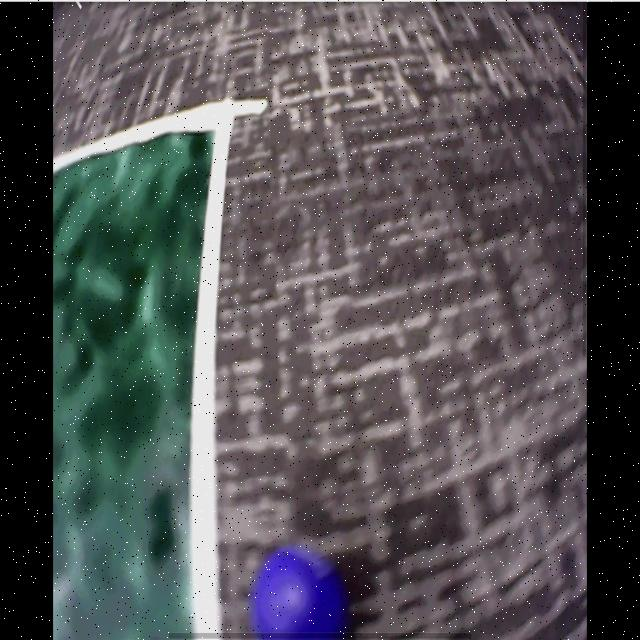ball: (250, 548, 343, 640)
